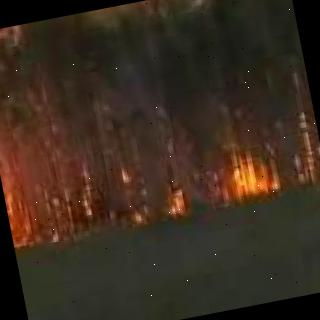fire: (218, 145, 284, 203), (10, 182, 67, 245), (297, 115, 320, 182), (160, 190, 184, 215)
